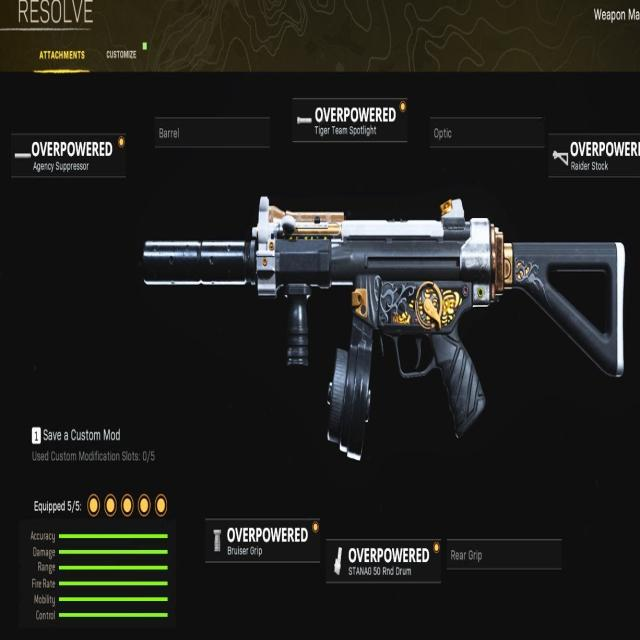Weapon: (143, 196, 625, 458)
